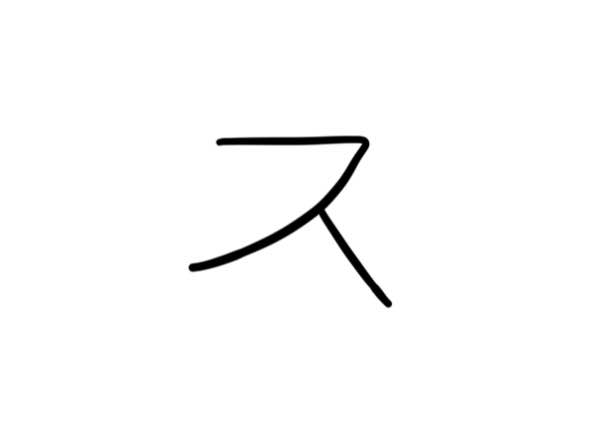su: (171, 125, 409, 314)
